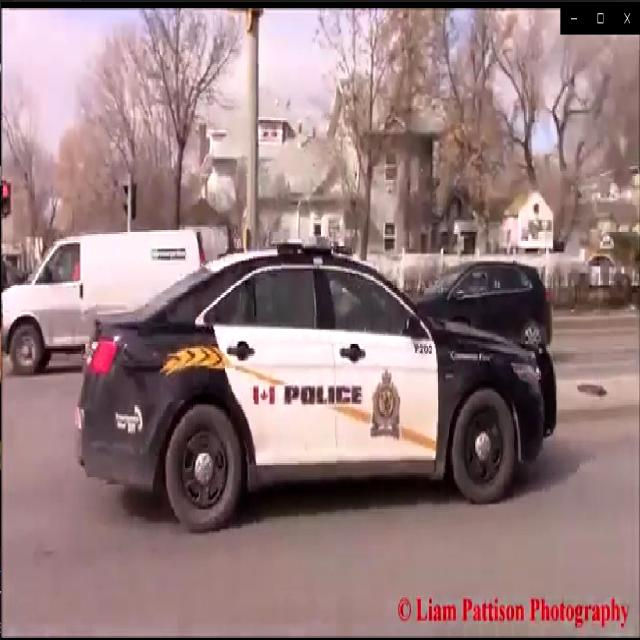emergency: (77, 239, 558, 542)
